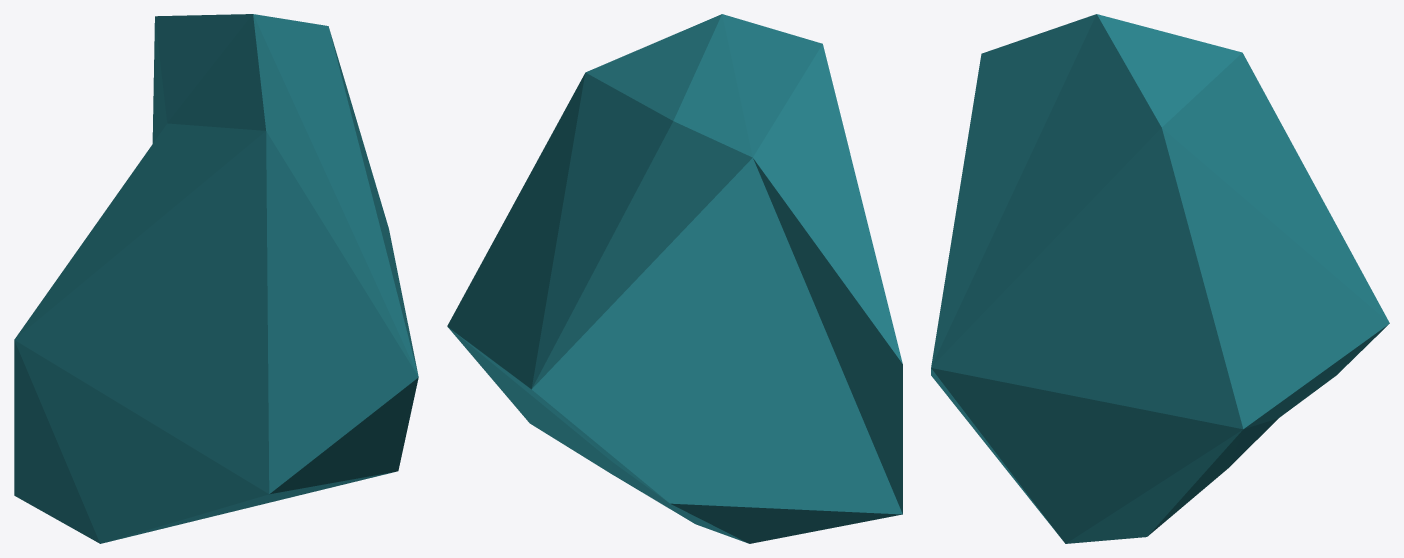
The model's file is medium_iceRock.fbx.
The picture shows the model from 3 angles, left to right: view 1: azimuth 30°, elevation 25°; view 2: azimuth 150°, elevation 25°; view 3: azimuth 270°, elevation 25°; orthographic projection. The views are drawn at different scales.
Parts seen in each view (by area): view 1: pSolid4; view 2: pSolid4; view 3: pSolid4.
Part boxes in pixels (x1=…): pSolid4: x1=14, y1=14, x2=418, y2=543; pSolid4: x1=447, y1=14, x2=902, y2=543; pSolid4: x1=931, y1=14, x2=1389, y2=543.
Size of the model in its own units: 83.69 by 91.72 by 80.03.
